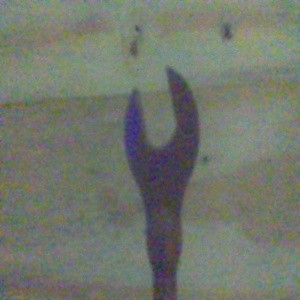spanner: (123, 67, 201, 300)
